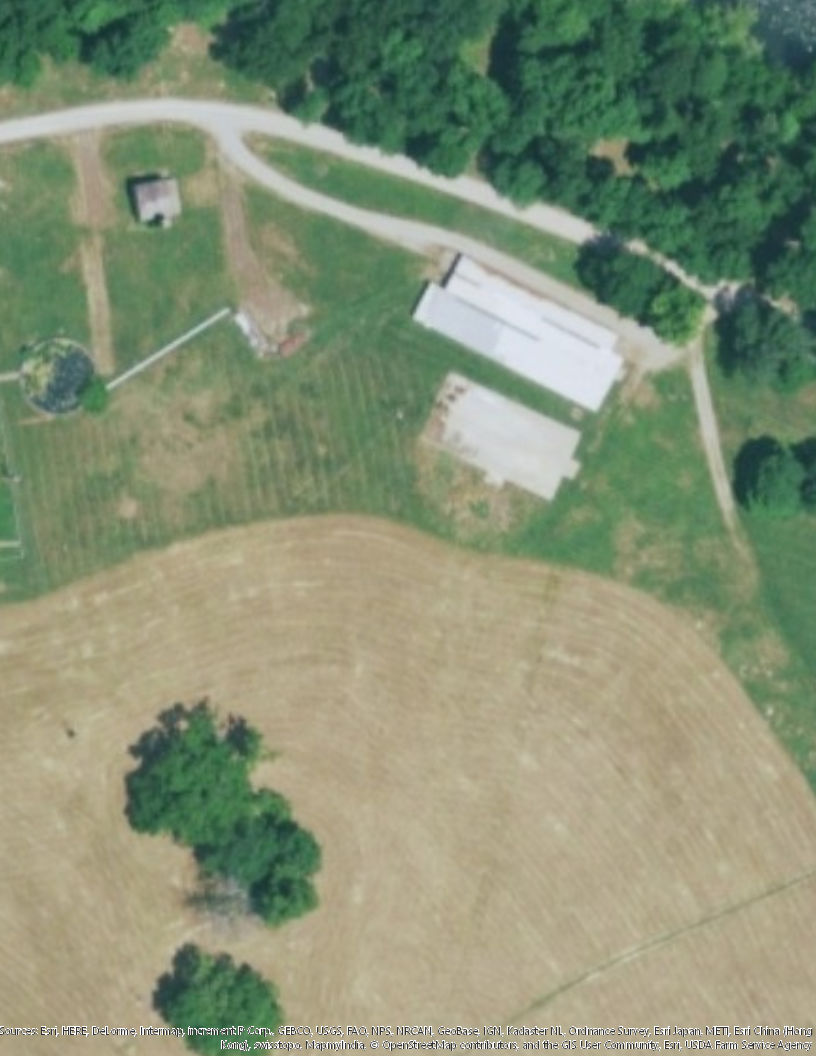cafo: (408, 240, 640, 416)
